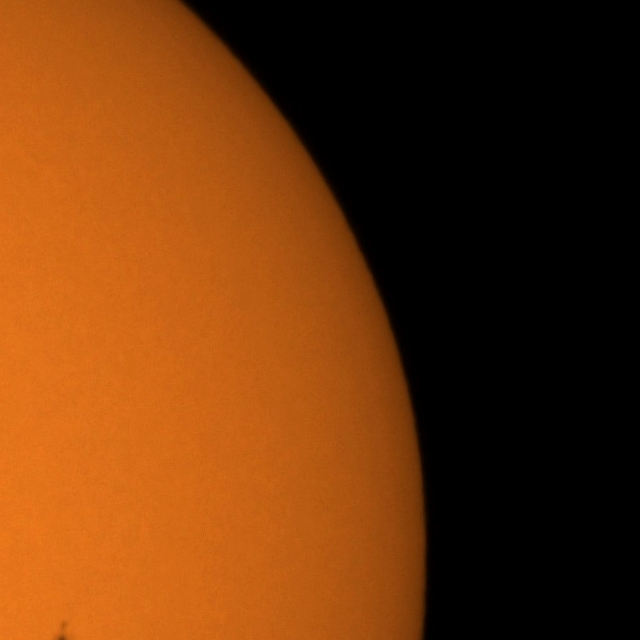sunspot: (53, 618, 70, 640)
